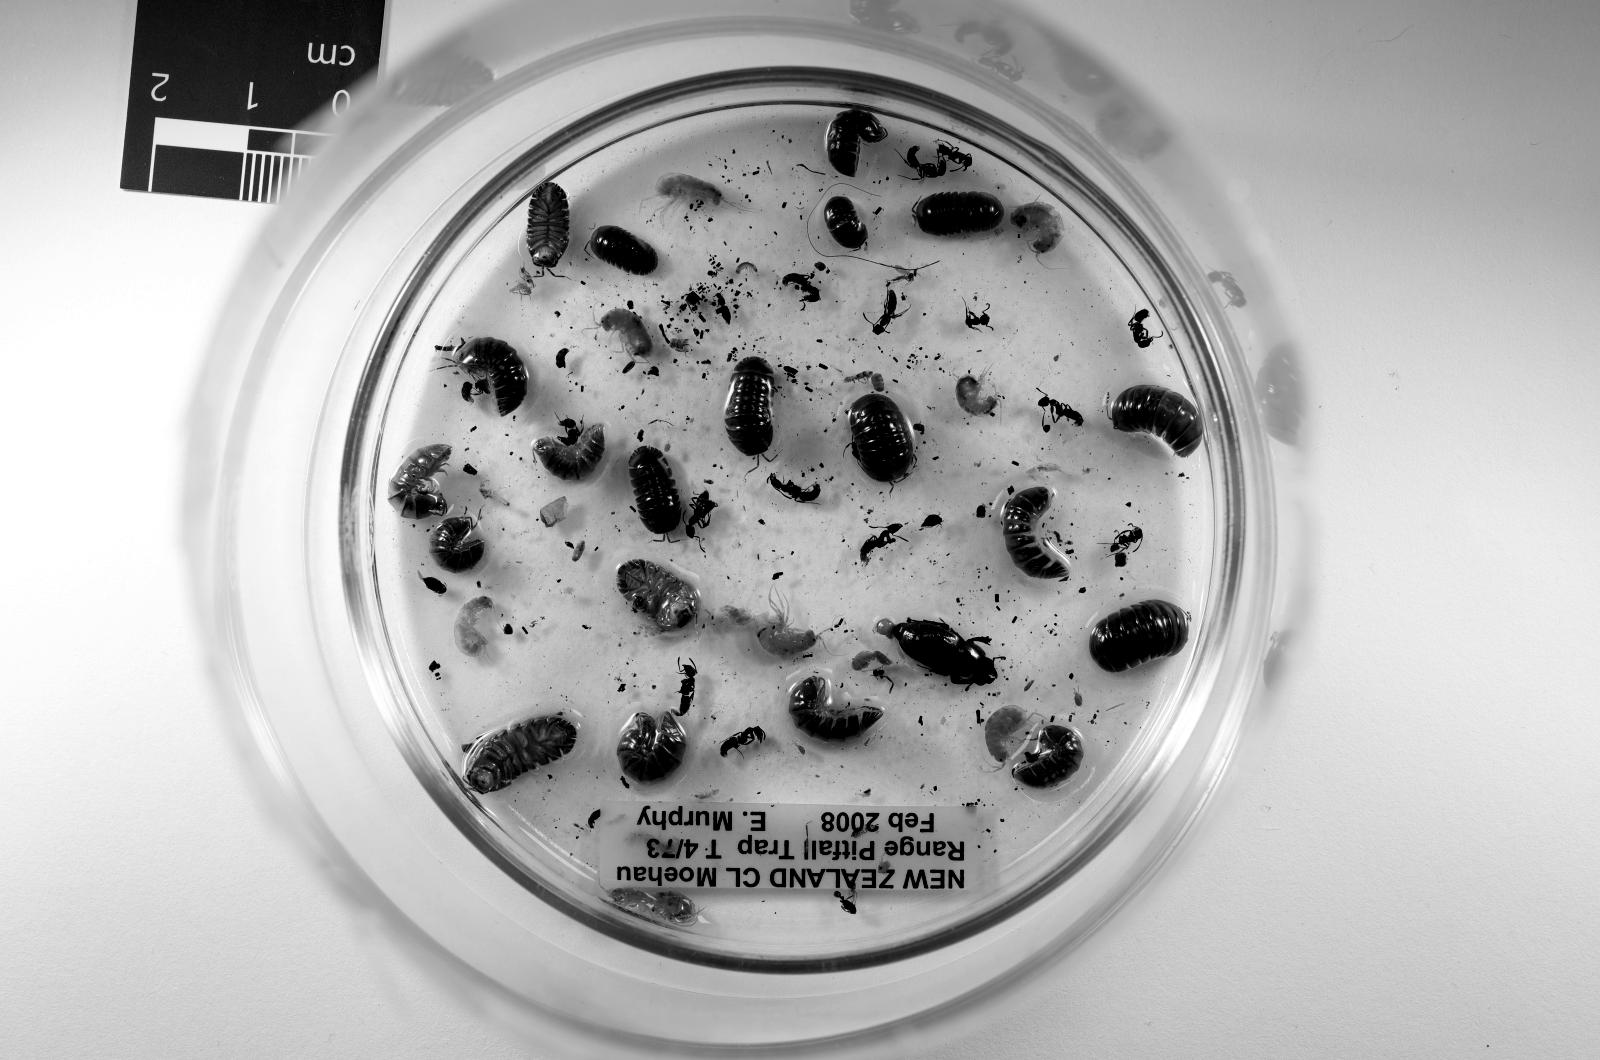acari: (1075, 689, 1084, 708)
amphipoda: (756, 587, 819, 658), (1009, 202, 1062, 258), (600, 307, 653, 357), (984, 705, 1028, 764), (453, 596, 494, 658), (656, 174, 725, 205), (956, 376, 997, 416)
coleoptera: (894, 618, 997, 686), (422, 578, 447, 593), (922, 512, 944, 528), (588, 811, 600, 829)
collembola: (844, 370, 872, 382), (694, 789, 719, 801)
diptera: (884, 264, 922, 283), (834, 891, 856, 913)
formicidae: (859, 525, 903, 562), (769, 475, 822, 503), (684, 491, 716, 537), (719, 727, 766, 758), (1038, 394, 1084, 425), (906, 146, 947, 180), (675, 661, 697, 717), (781, 273, 819, 304), (872, 289, 897, 335), (1109, 525, 1144, 553), (938, 143, 972, 171), (1128, 311, 1153, 348), (966, 307, 991, 329)
isopoda: (466, 714, 578, 792), (1091, 599, 1188, 674), (1109, 385, 1203, 457), (1000, 488, 1069, 578), (847, 394, 916, 484), (791, 674, 881, 742), (453, 338, 528, 416), (616, 559, 697, 630), (616, 711, 688, 783), (725, 357, 775, 457), (388, 444, 453, 519), (1012, 724, 1084, 789), (628, 447, 681, 534), (825, 109, 888, 177), (531, 425, 603, 481), (912, 193, 1003, 236), (525, 183, 569, 270), (588, 227, 659, 276), (431, 516, 484, 571), (825, 196, 869, 248), (734, 261, 756, 273)
